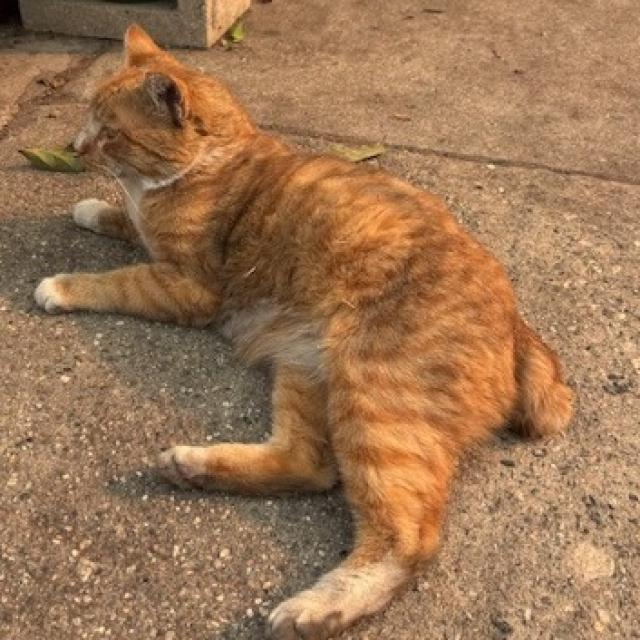American Bobtail: (31, 18, 578, 640)
